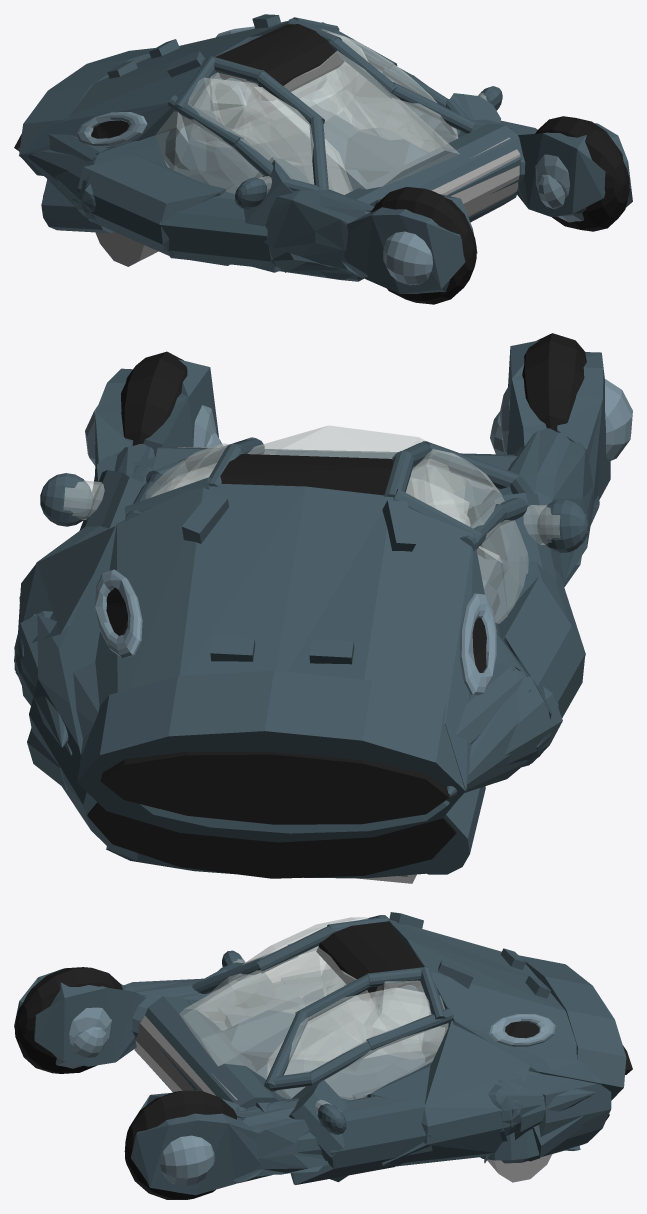
3 views of the same model, one above another, from view 1: azimuth 30°, elevation 25°; view 2: azimuth 150°, elevation 25°; view 3: azimuth 270°, elevation 25° (orthographic). The views are drawn at different scales.
Visible parts, largest first — view 1: group1770809123, group315876370, group1116936264, group72282294, group811801723, group1148276710, group1605267009, group576395614, group1479556523, group1217687639, group1767902408, group1423913653 (+37 smaller); view 2: group811801723, group1706036785, group1418706754, group1230198127, group315876370, group72282294, group1234987666, group1148276710, group1767902408, group759334159, group1770809123, group1755313075 (+38 smaller); view 3: group1770809123, group811801723, group759334159, group1217687639, group1116936264, group576395614, group1667513351, group315876370, group510704527, group1706036785, group1116708146, group1767902408 (+35 smaller).
Part boxes in pixels (x1,y1,x2,y2): group1770809123: [233, 50, 459, 194]; group315876370: [156, 77, 352, 194]; group1116936264: [205, 89, 437, 272]; group72282294: [77, 155, 236, 265]; group811801723: [19, 21, 289, 158]; group1148276710: [264, 189, 374, 278]; group1605267009: [344, 207, 465, 293]; group576395614: [320, 123, 522, 279]; group1479556523: [159, 180, 276, 266]; group1217687639: [321, 29, 458, 149]; group1767902408: [215, 24, 344, 100]; group1423913653: [182, 32, 368, 147]; group811801723: [59, 483, 484, 814]; group1706036785: [77, 670, 465, 842]; group1418706754: [100, 751, 449, 824]; group1230198127: [87, 802, 456, 878]; group315876370: [406, 449, 528, 623]; group72282294: [489, 570, 584, 766]; group1234987666: [29, 614, 137, 860]; group1148276710: [482, 428, 599, 586]; group1767902408: [220, 454, 392, 495]; group759334159: [15, 526, 115, 681]; group1770809123: [248, 425, 464, 498]; group1755313075: [522, 333, 586, 431]; group1770809123: [179, 946, 371, 1079]; group811801723: [389, 919, 601, 1084]; group759334159: [363, 1020, 529, 1166]; group1217687639: [266, 987, 448, 1099]; group1116936264: [214, 983, 425, 1098]; group576395614: [145, 996, 282, 1108]; group1667513351: [290, 1096, 432, 1184]; group315876370: [200, 917, 368, 1030]; group510704527: [131, 1113, 260, 1195]; group1706036785: [519, 955, 626, 1100]; group1116708146: [34, 982, 145, 1066]; group1767902408: [316, 921, 424, 1000].
Bounding box in the file's own units: 0.6917 × 0.3435 × 0.8816.
